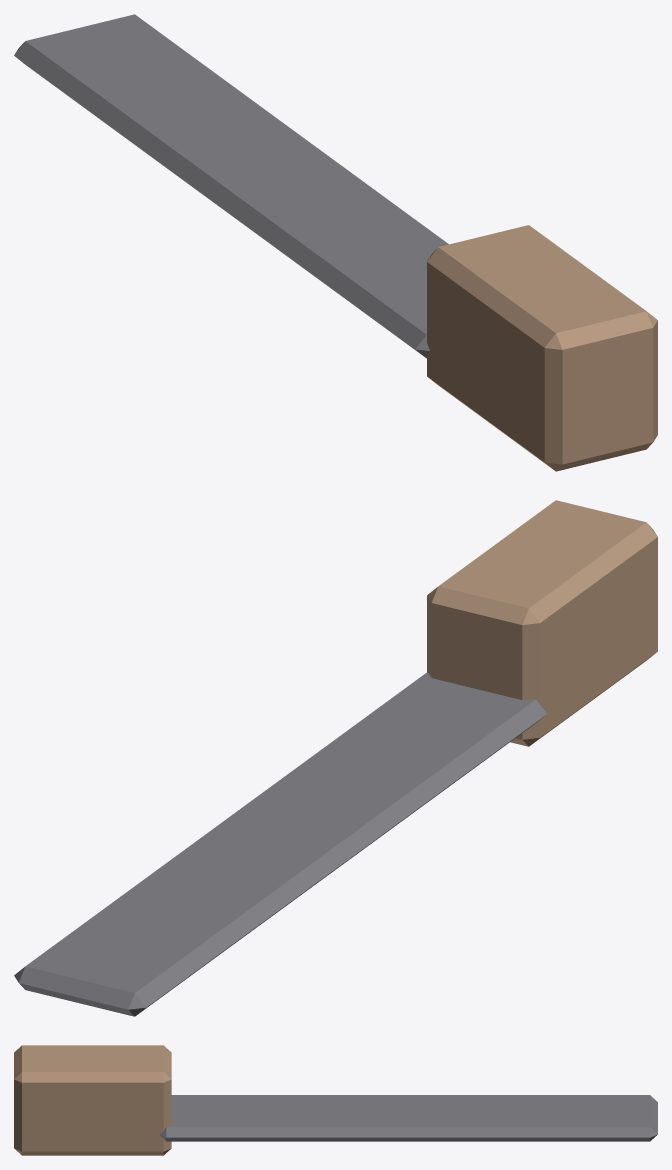
Rendered from SM_Saw.fbx.
3 views of the same model, one above another, from view 1: azimuth 30°, elevation 25°; view 2: azimuth 150°, elevation 25°; view 3: azimuth 270°, elevation 25° (orthographic). The views are drawn at different scales.
Parts seen in each view (by area): view 1: Saw; view 2: Saw; view 3: Saw.
Part boxes in pixels (x1,y1,x2,y2): Saw: (14,14,657,471); Saw: (14,500,657,1016); Saw: (14,1045,657,1155).
Size of the model in its own units: 7 by 7 by 49.
